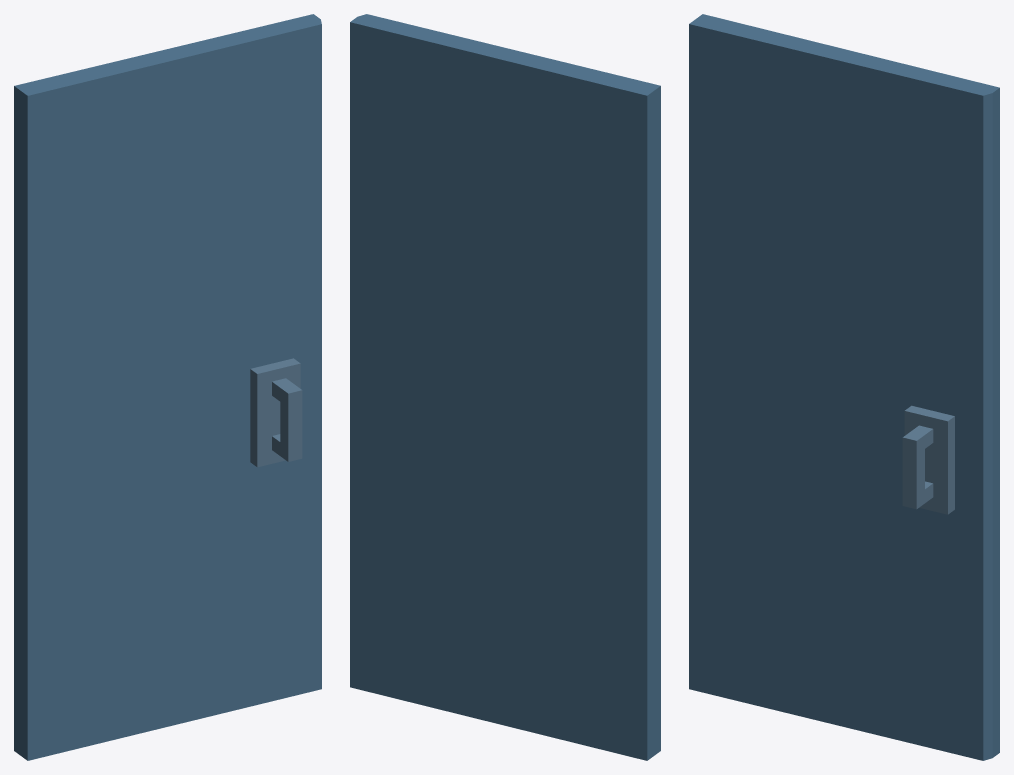
The model's file is doorOfficeL.fbx.
3 renders of one model, left to right at view 1: azimuth 30°, elevation 25°; view 2: azimuth 150°, elevation 25°; view 3: azimuth 330°, elevation 25°, orthographic.
Parts seen in each view (by area): view 1: doorOfficeL; view 2: doorOfficeL; view 3: doorOfficeL.
Boxes of the visible parts, x1,y1,x2,y2 form: doorOfficeL: (14, 14, 321, 760); doorOfficeL: (350, 14, 660, 760); doorOfficeL: (689, 14, 999, 760).
Bounding box in the file's own units: 515 × 1098 × 111.
